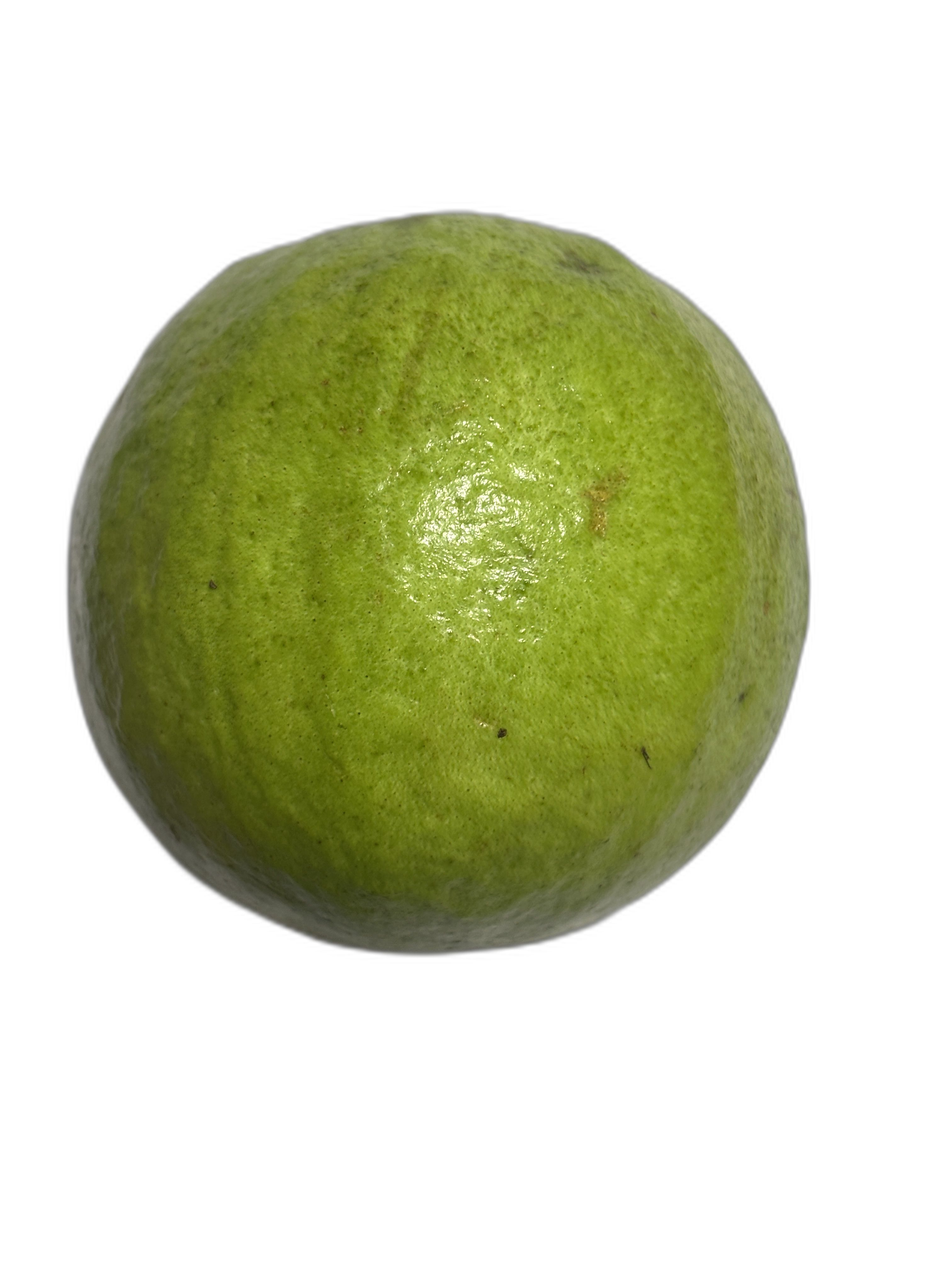guava: (249, 147, 830, 974)
